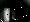person: (5, 9, 11, 22), (13, 9, 18, 20)
